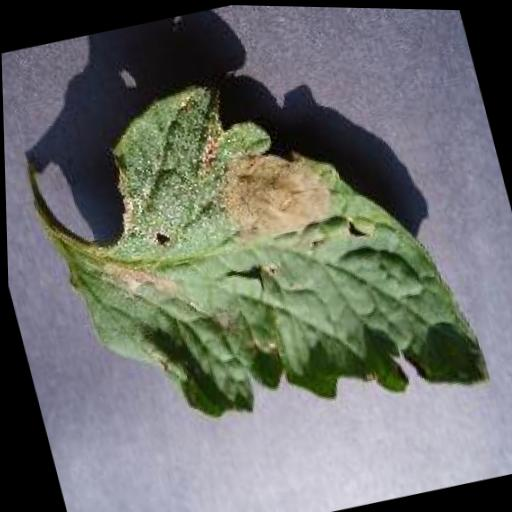Late Blight: (23, 28, 499, 464)
